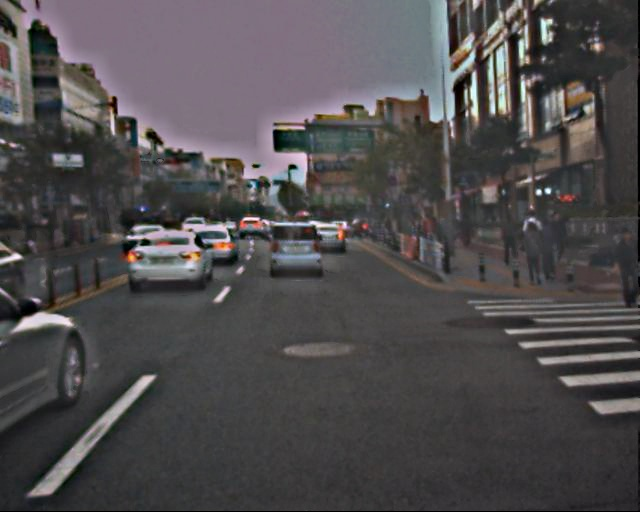person: (609, 226, 640, 308), (519, 221, 544, 283), (535, 218, 560, 279), (519, 209, 544, 269), (403, 215, 440, 245), (548, 208, 569, 258), (498, 215, 518, 263), (458, 213, 472, 248)
